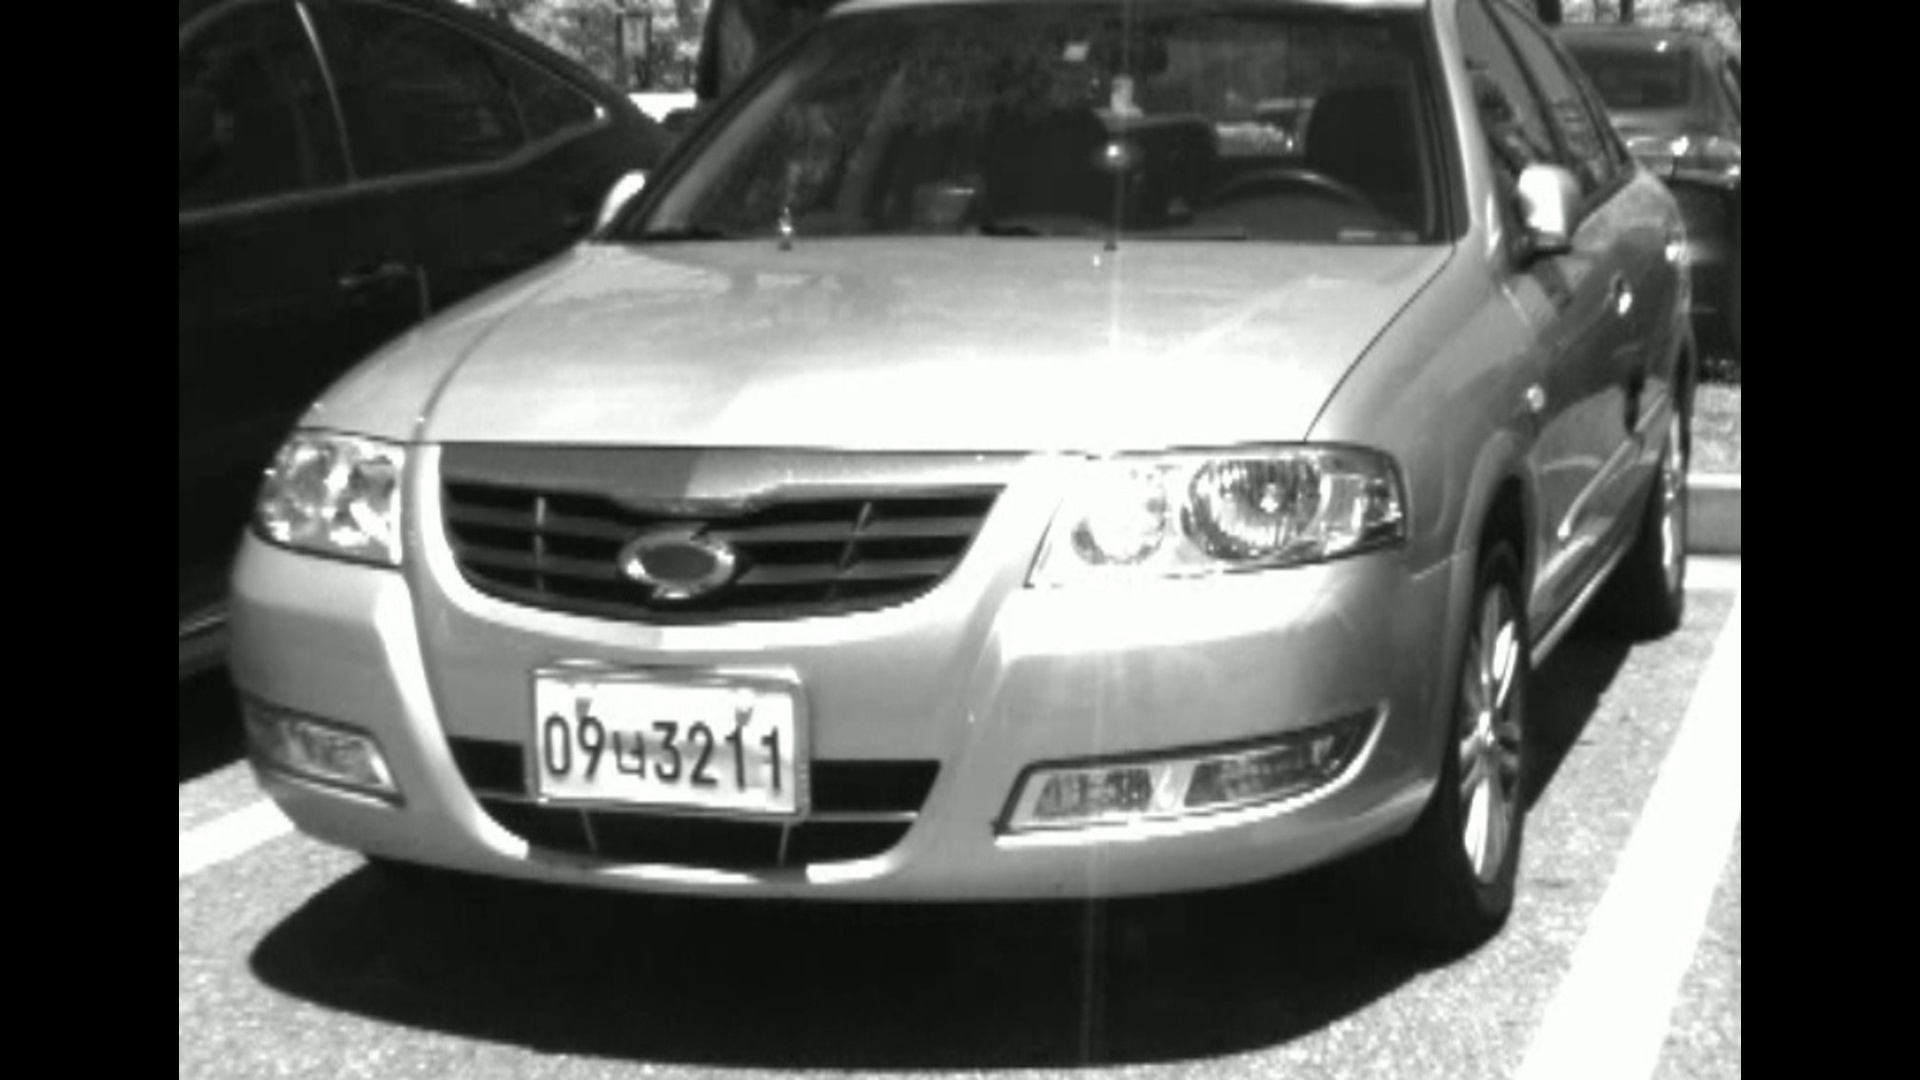license_plate: (523, 661, 804, 821)
